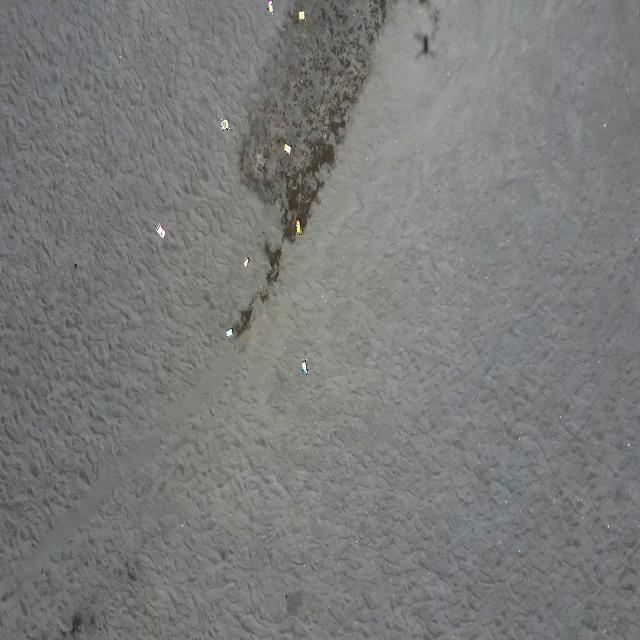Garbage: (300, 357, 307, 373), (156, 223, 164, 236), (283, 143, 291, 154), (220, 119, 228, 129), (295, 219, 300, 233), (243, 256, 249, 267), (224, 327, 232, 335), (267, 0, 272, 12), (298, 11, 303, 20)
